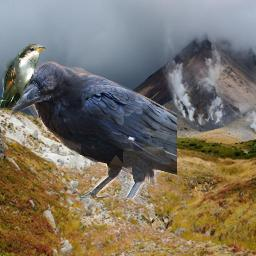Crow: (9, 59, 177, 198)
Cuckoo: (0, 44, 46, 108)
